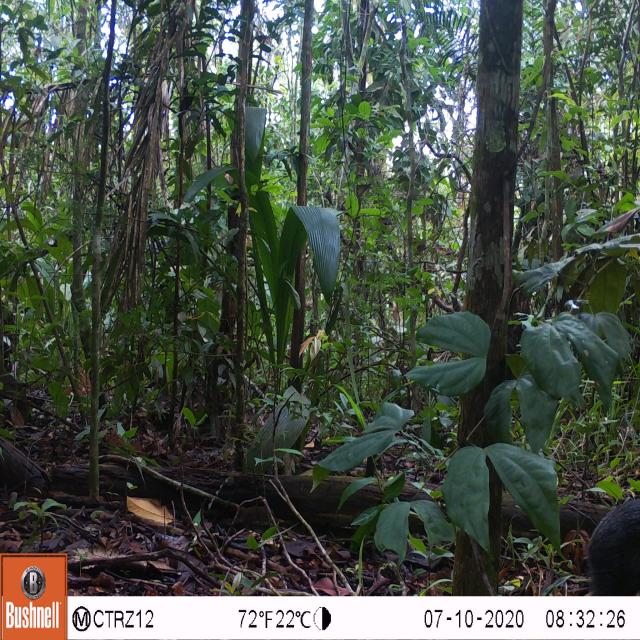Black Agouti: (583, 474, 640, 594)
